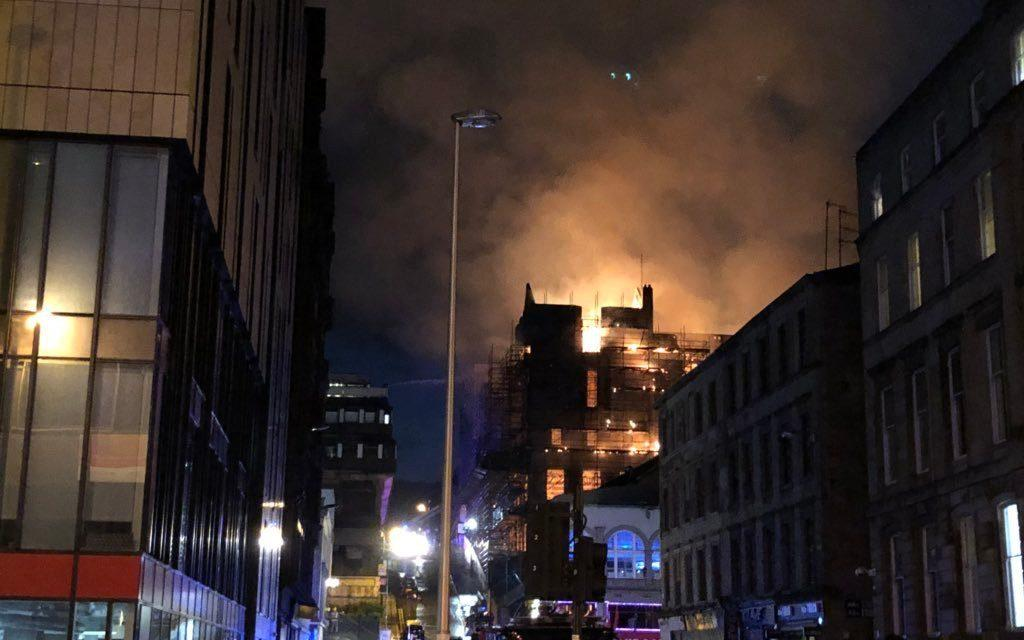smoke: (525, 21, 804, 279)
